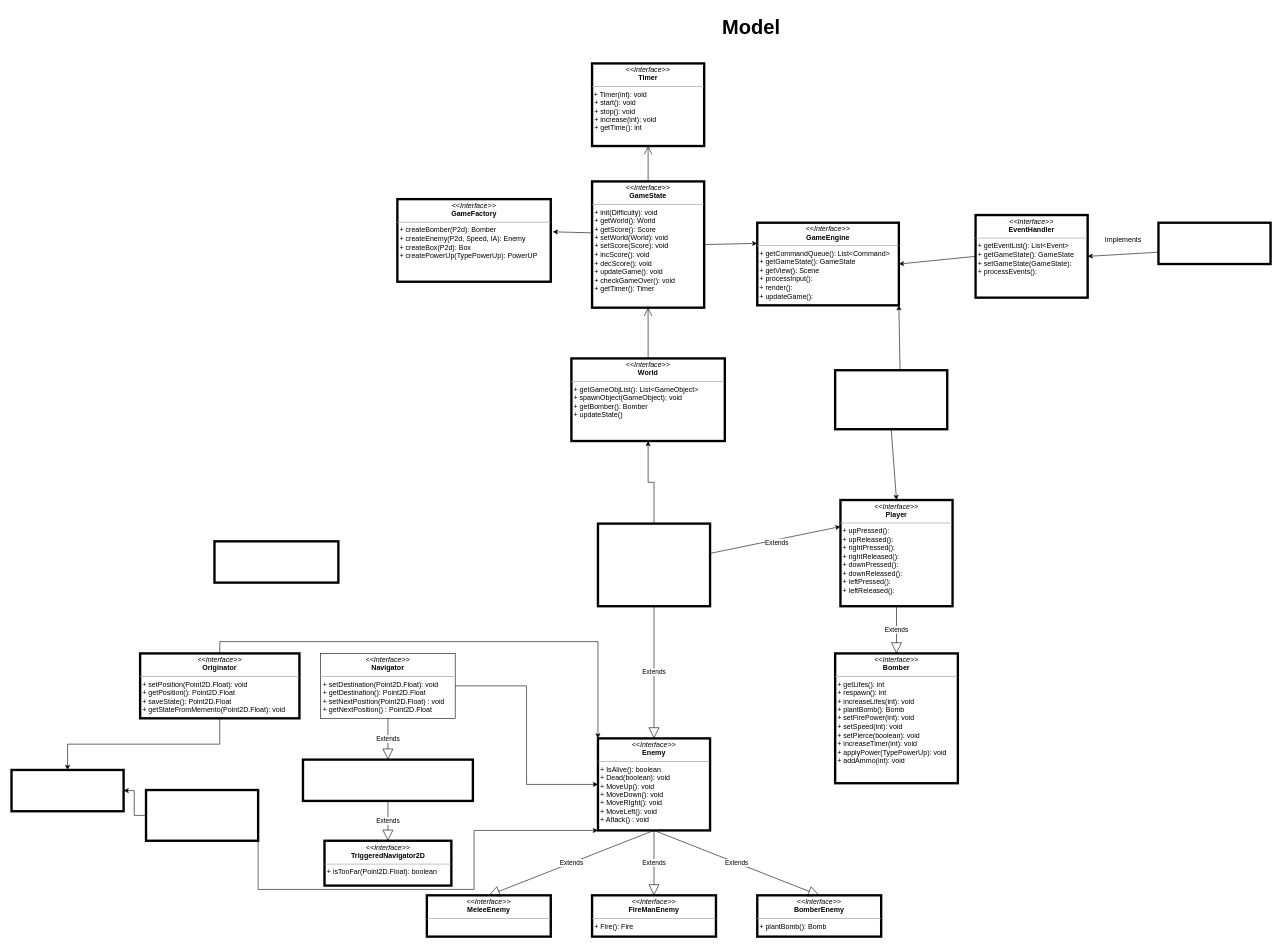
This 1281x948 diagram has some shape labels left out. Each missing label, with the centre of its shape:
<<Interface>> CareTaker + add(Memento): void + getMemento(int): Memento: [202,815]
<<Interface>> Command + execute(GameState): [891,399]
<<Interface>> GameObject + update(): + getImage(): BufferedImage: [653,564]
<<Interface>> Interface + method(Type): Type: [276,562]
<<Interface>> Memento + getPosition(): Point2D.Float: [67,790]
<<Interface>> SimpleNavigator # calculateDistance(Point2D.Float): Point2D.Float: [387,780]
<<Interface>> WorldEventListener + notifyEvent(Event):: [1214,243]
